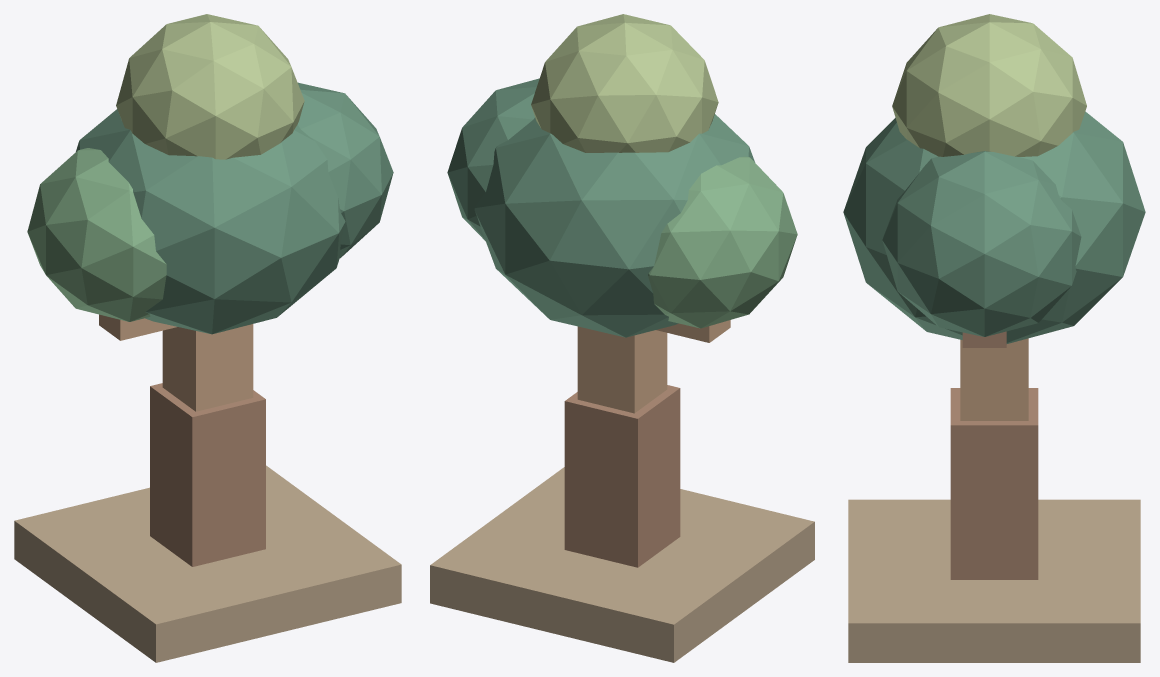
File: tree_lowpoly_v3.glb
3 renders of one model, left to right at view 1: azimuth 30°, elevation 25°; view 2: azimuth 150°, elevation 25°; view 3: azimuth 270°, elevation 25°, orthographic. The views are drawn at different scales.
Visible parts, largest first — view 1: soil_root, crown_center, crown_top, trunk_base, crown_left, crown_right, trunk_upper, branch_left; view 2: soil_root, crown_center, crown_top, trunk_base, crown_left, trunk_upper, crown_right, branch_left; view 3: soil_root, crown_right, crown_top, crown_center, trunk_base, trunk_upper, branch_right.
Boxes of the visible parts, left/top/right/bottom form: soil_root: left=14, top=465, right=401, bottom=662; crown_center: left=76, top=109, right=345, bottom=334; crown_top: left=116, top=14, right=304, bottom=159; trunk_base: left=150, top=383, right=265, bottom=566; crown_left: left=27, top=148, right=166, bottom=321; crown_right: left=297, top=82, right=393, bottom=258; trunk_upper: left=162, top=324, right=253, bottom=411; branch_left: left=99, top=314, right=176, bottom=340; soil_root: left=430, top=467, right=814, bottom=662; crown_center: left=474, top=114, right=755, bottom=337; crown_top: left=531, top=14, right=718, bottom=152; trunk_base: left=564, top=385, right=680, bottom=567; crown_left: left=648, top=156, right=797, bottom=328; trunk_upper: left=577, top=326, right=667, bottom=413; crown_right: left=447, top=78, right=539, bottom=241; branch_left: left=656, top=320, right=730, bottom=342; soil_root: left=848, top=499, right=1140, bottom=662; crown_right: left=882, top=151, right=1081, bottom=336; crown_top: left=892, top=14, right=1086, bottom=156; crown_center: left=843, top=111, right=1145, bottom=343; trunk_base: left=950, top=388, right=1038, bottom=579; trunk_upper: left=960, top=338, right=1028, bottom=420; branch_right: left=962, top=331, right=1006, bottom=347.
Bounding box in the file's own units: 0.7899 × 1.31 × 0.62.
